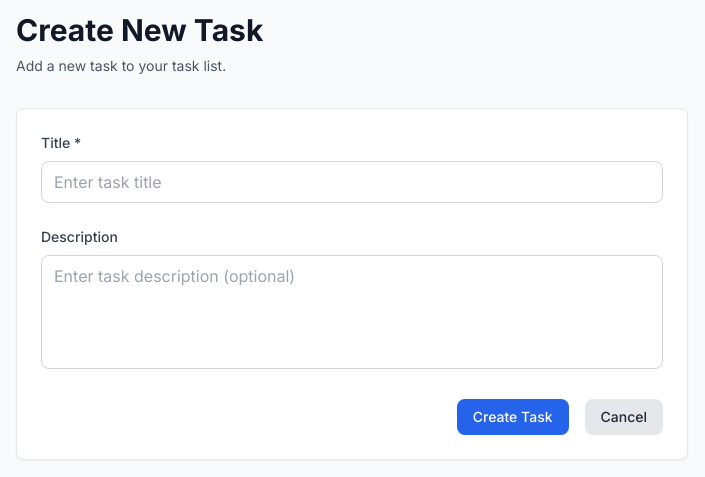
CreateTaskPage › shows loading state during creation
This screenshot has width=705, height=477.
Step 1. Type "New Task" into the field labelled "Title *" → (352, 182), box [41,161,663,203]
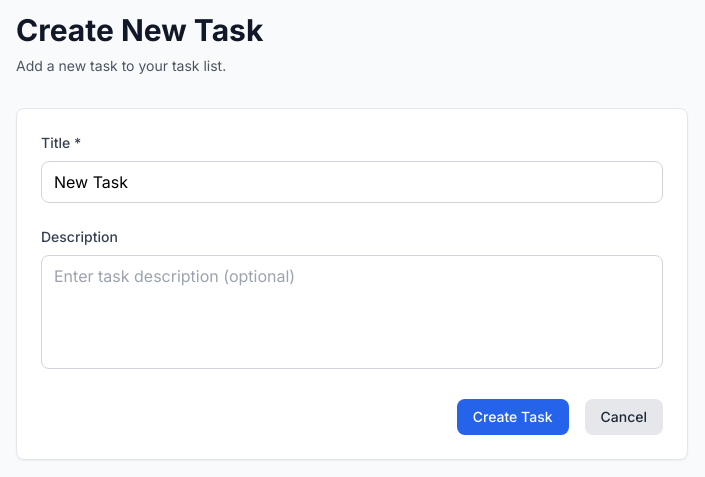
Step 2. Click the button "Create Task" → (513, 417), box [457,399,569,435]
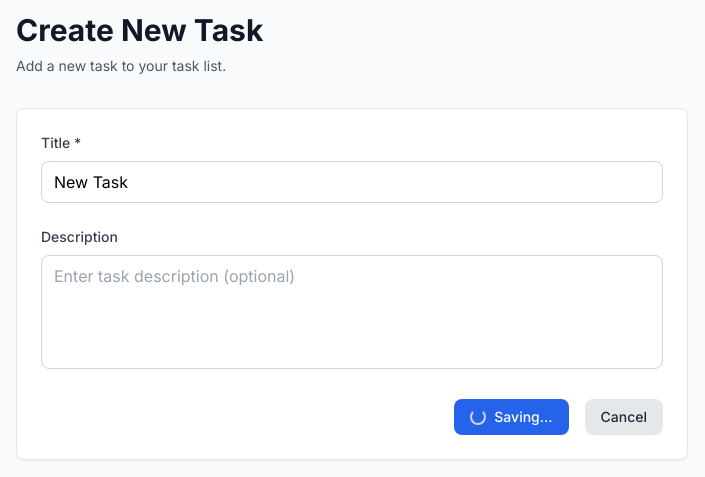
Expected: the button "Saving..." is shown, [454,399,568,435]
